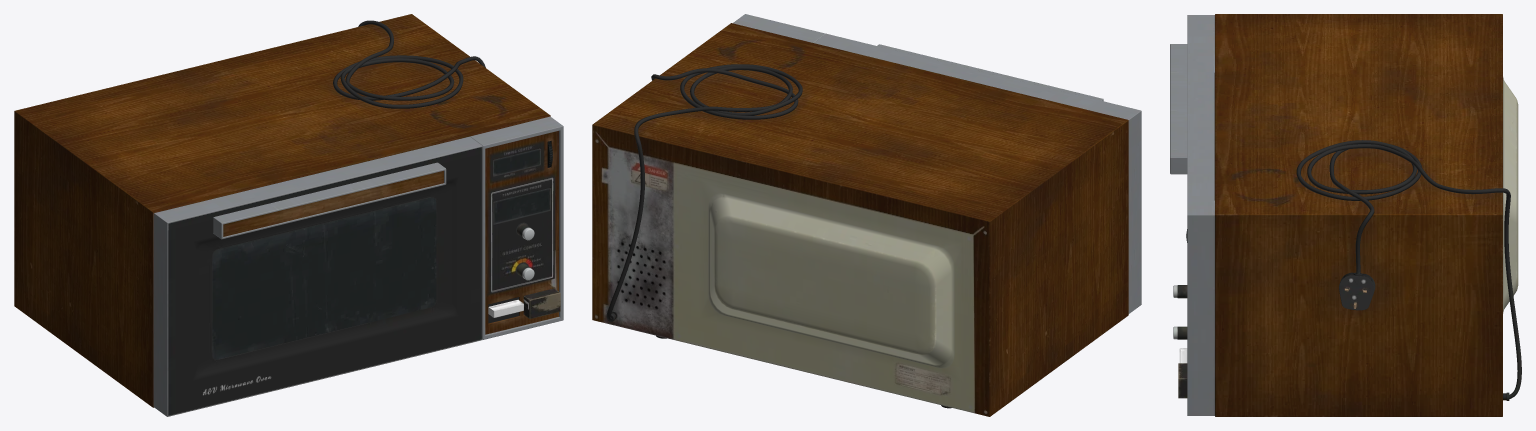
The model's file is Microwave.glb.
3 renders of one model, left to right at view 1: azimuth 30°, elevation 25°; view 2: azimuth 150°, elevation 25°; view 3: azimuth 270°, elevation 25°, orthographic. The views are drawn at different scales.
Parts seen in each view (by area): view 1: vintage_microwave; view 2: vintage_microwave; view 3: vintage_microwave.
Part boxes in pixels (bbox=[...]): vintage_microwave: bbox=[14, 14, 563, 416]; vintage_microwave: bbox=[592, 14, 1141, 416]; vintage_microwave: bbox=[1170, 14, 1521, 416].
Bounding box in the file's own units: 1.07 × 0.5258 × 0.7456.
Materials: 2 (2 with a texture image).
